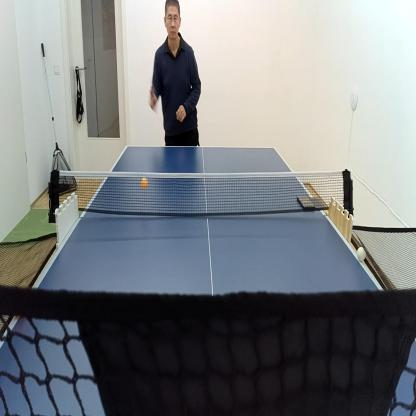Ball: (356, 245, 366, 264), (140, 176, 149, 190)
